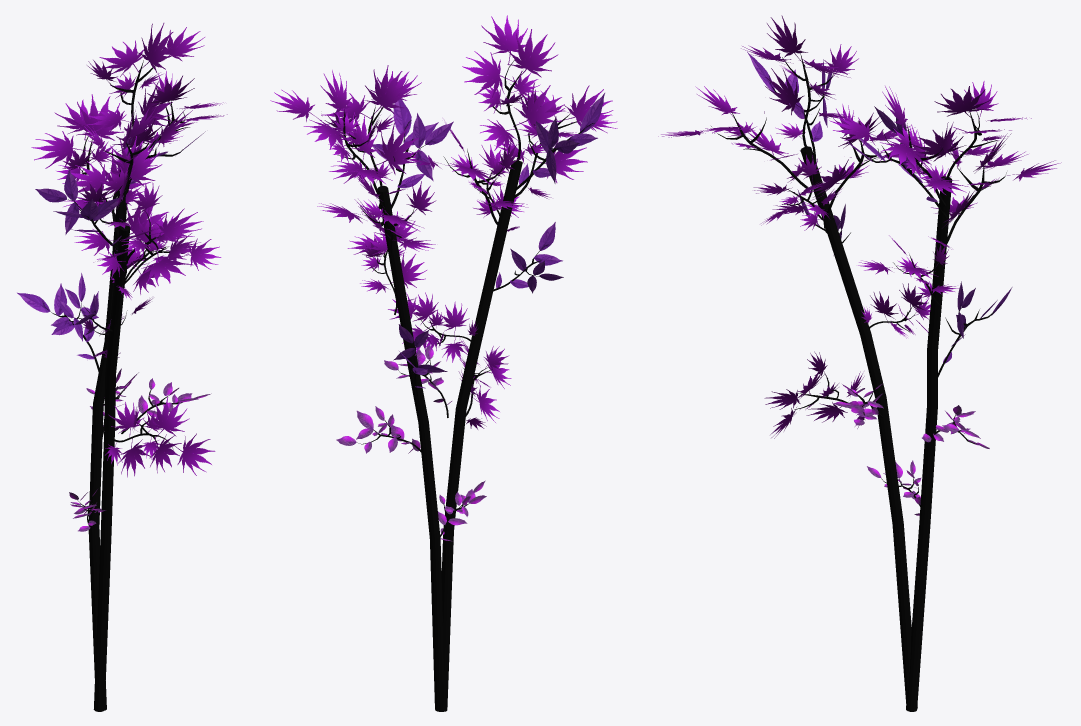
File: purpletree9.fbx
3 views of the same model, side by side, from view 1: azimuth 30°, elevation 25°; view 2: azimuth 150°, elevation 25°; view 3: azimuth 270°, elevation 25° (orthographic). The views are drawn at different scales.
Parts seen in each view (by area): view 1: pCylinder1070; view 2: pCylinder1070; view 3: pCylinder1070.
Part boxes in pixels (x1,y1,x2,y2): pCylinder1070: (17, 23, 227, 711); pCylinder1070: (270, 15, 617, 711); pCylinder1070: (658, 15, 1061, 711).
Size of the model in its own units: 17.35 by 44.36 by 24.1.
